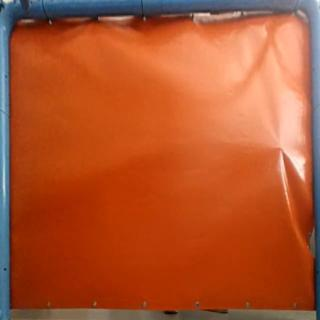Hit-hRxx: (272, 141, 290, 157)
